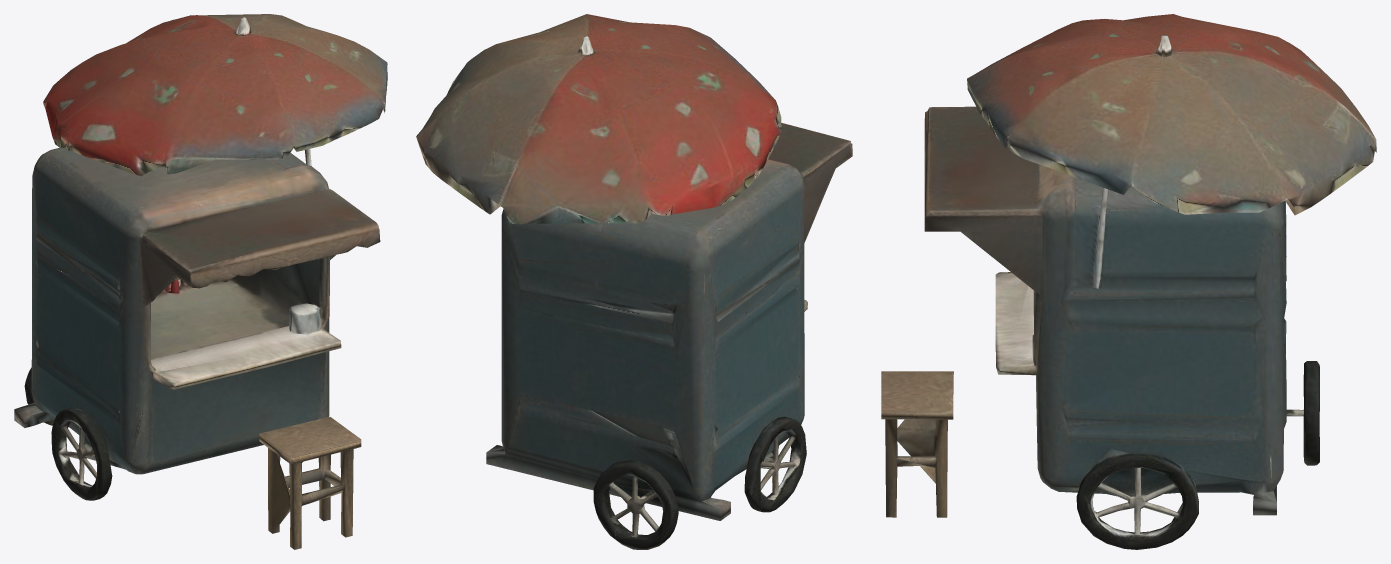
File: pos_shop.glb
The picture shows the model from 3 angles, left to right: view 1: azimuth 30°, elevation 25°; view 2: azimuth 150°, elevation 25°; view 3: azimuth 270°, elevation 25°; orthographic projection. The views are drawn at different scales.
Bounding box in the file's own units: 1.47 × 1.9 × 1.74.
Materials: 1 (1 with a texture image).
